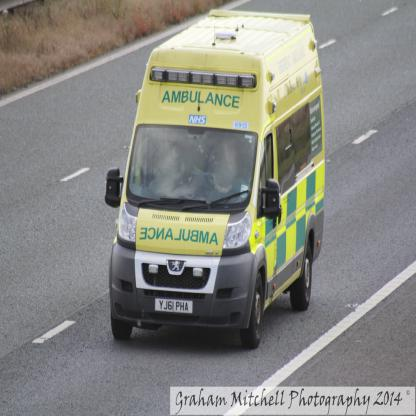Ambulance: (103, 12, 326, 347)
